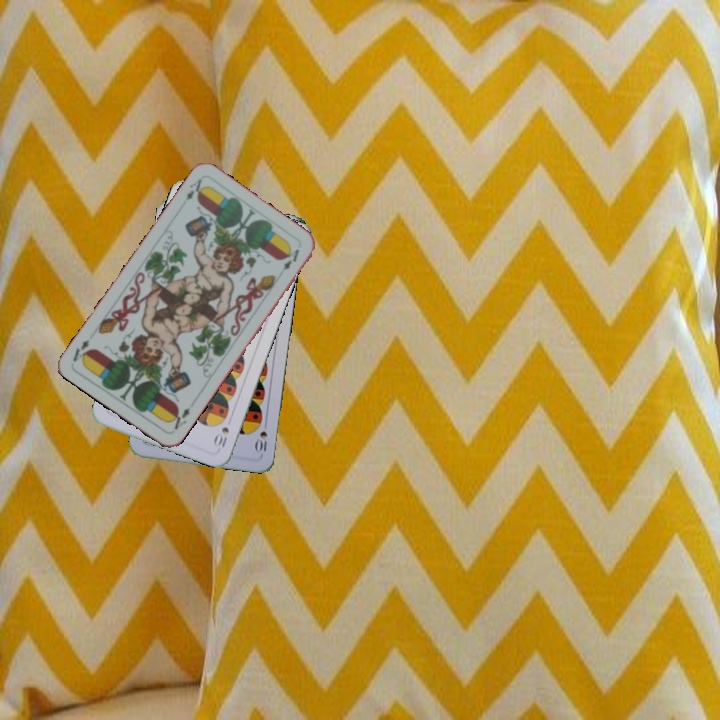EA: (165, 403, 193, 432), (181, 175, 207, 203)
S10: (211, 423, 232, 450), (252, 427, 270, 455)
